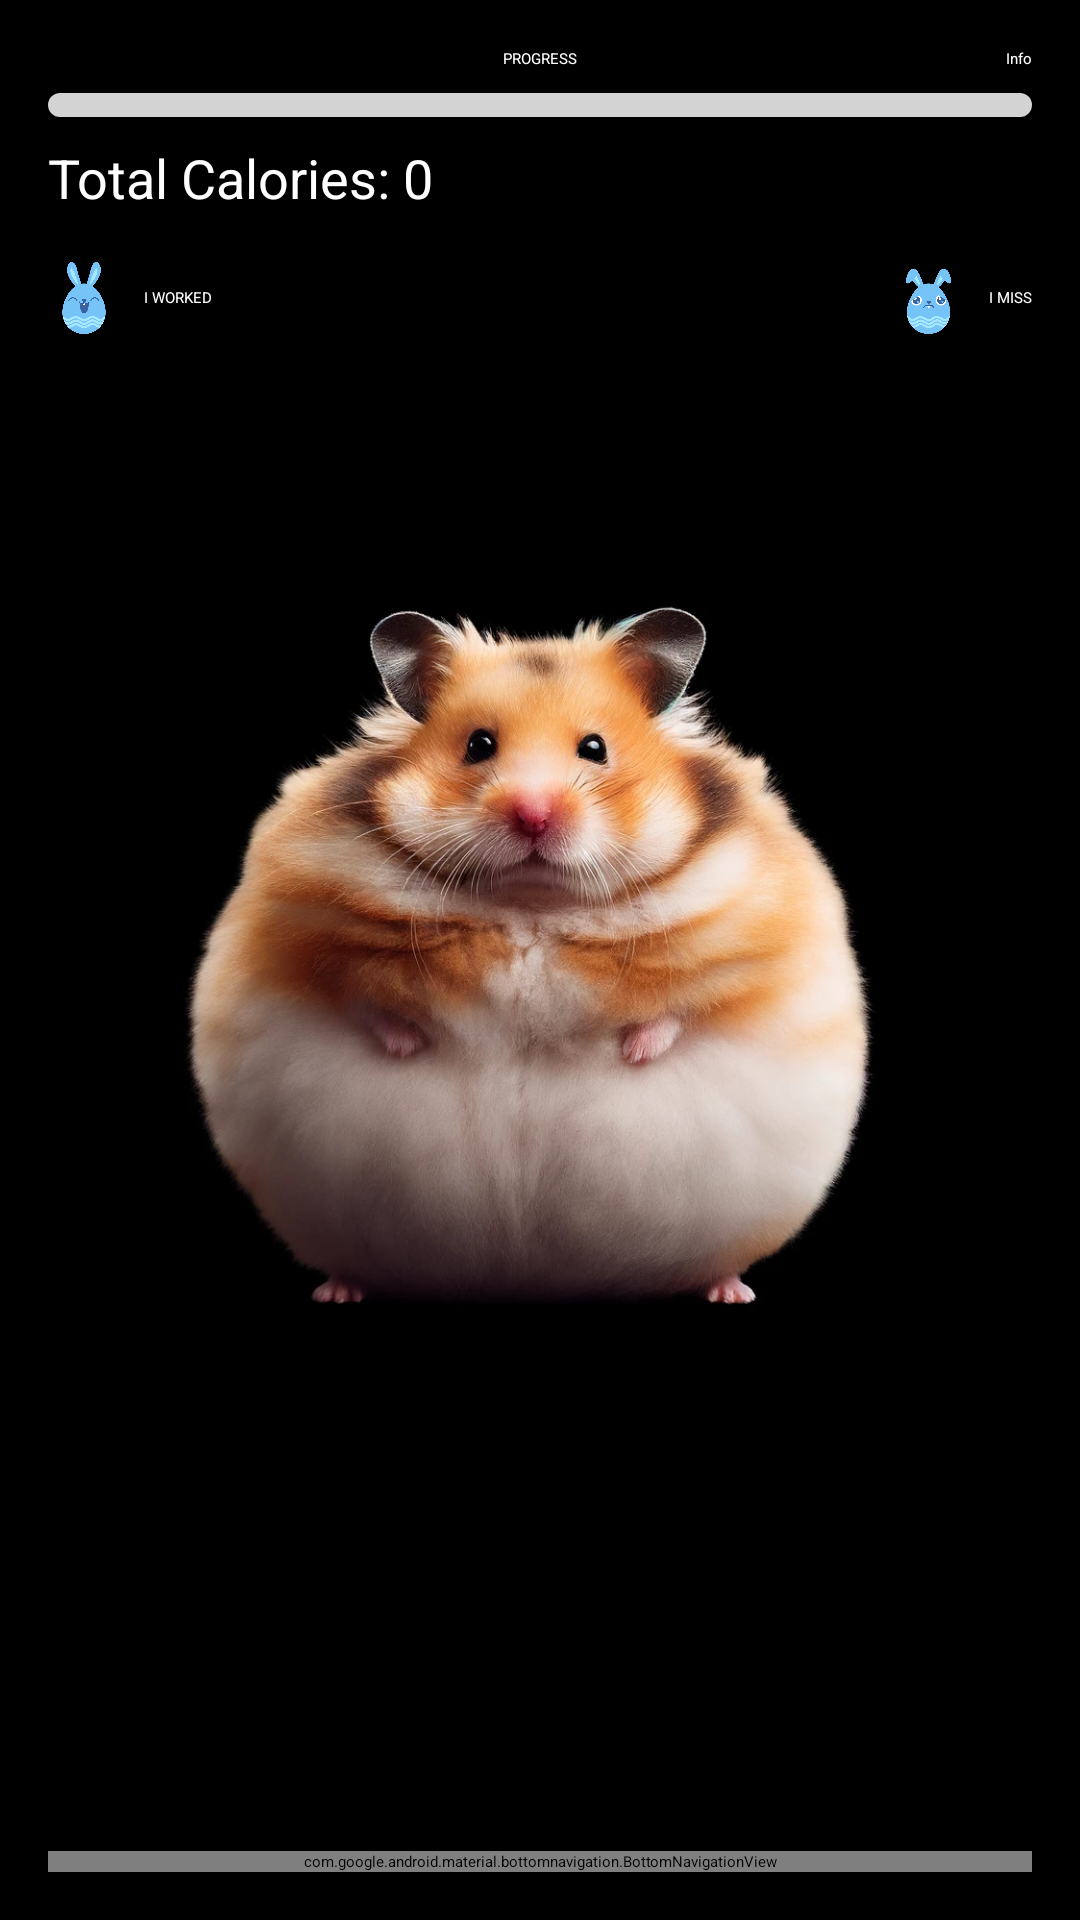

Locate icon controls on the screen. Image size 1080 × 1920, boxes as (x1, y1, x2, y2).
happy: (62, 262, 106, 334)
sad: (906, 269, 951, 334)
